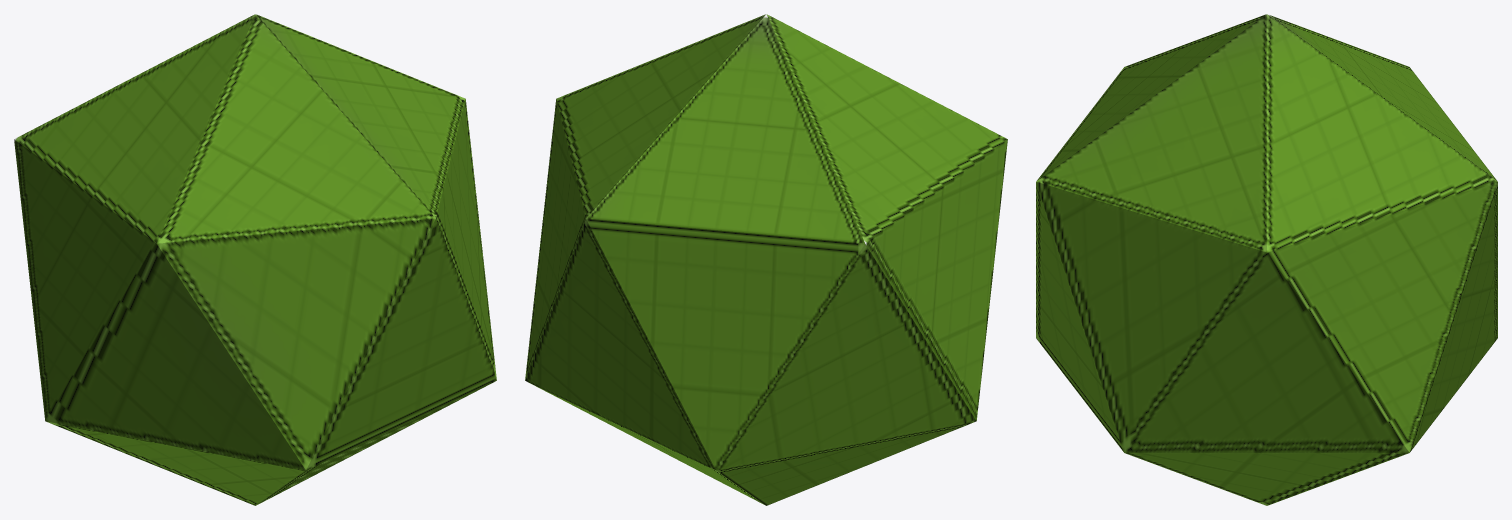
Rendered from IdiotaAlakzatParticle.obj.
3 views of the same model, side by side, from view 1: azimuth 30°, elevation 25°; view 2: azimuth 150°, elevation 25°; view 3: azimuth 270°, elevation 25° (orthographic).
Bounding box in the file's own units: 1.79 × 2 × 1.7.
